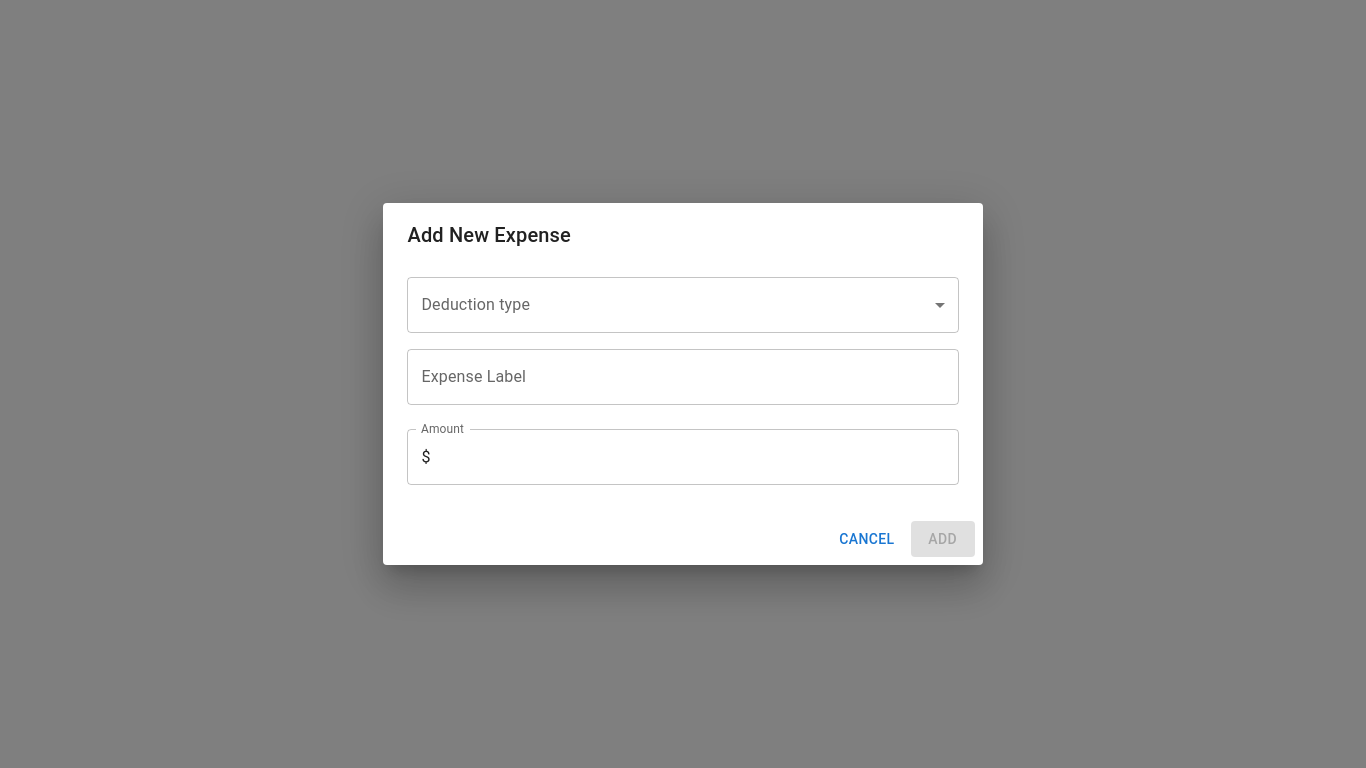
Test: AddExpense › disables the Add button when required fields are empty
This screenshot has width=1366, height=768.
Expected: the button "Add" is disabled, [911,521,975,557]
# Fill in the required fields
Type "Test Expense" into the field labelled "Expense Label" at {"x": 683, "y": 377}, box [407,349,959,405]
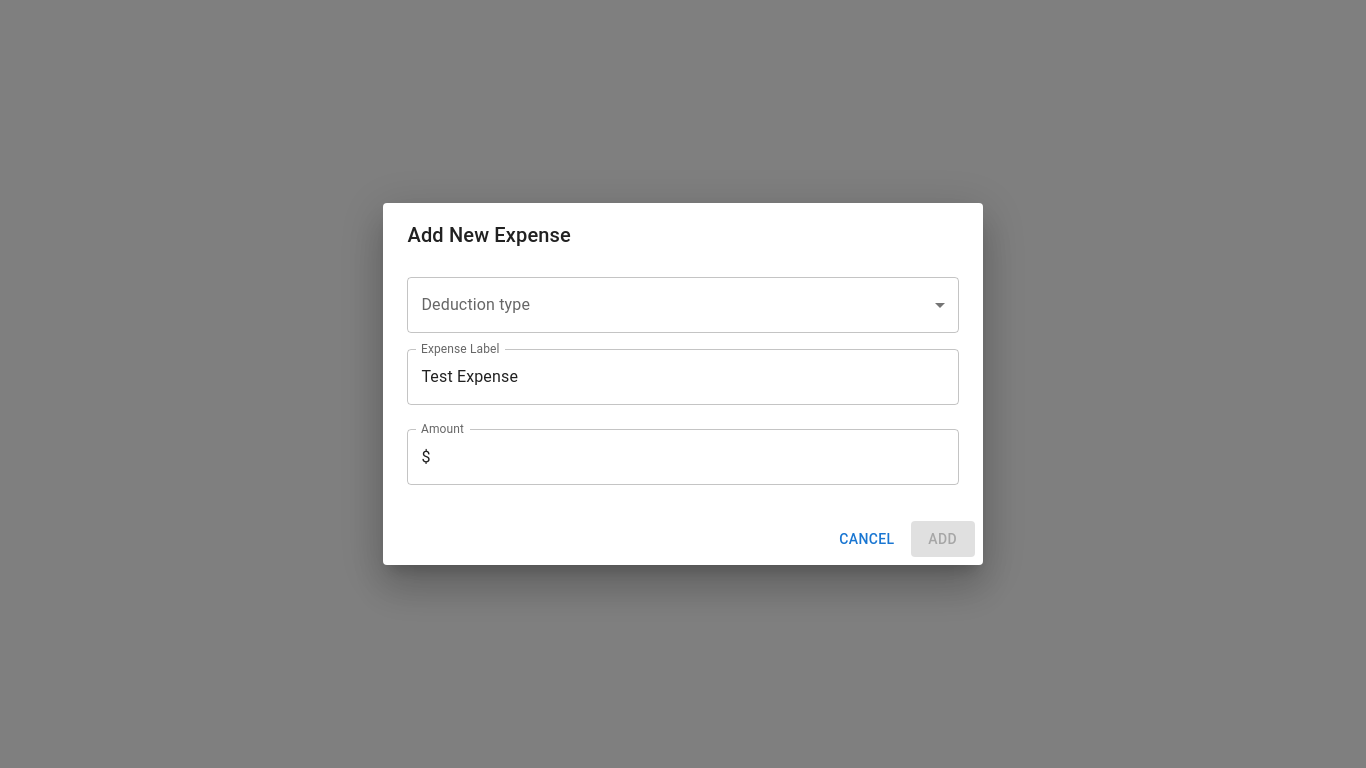
Type "100" into the number field labelled "Amount" at {"x": 695, "y": 457}, box [431,429,959,485]
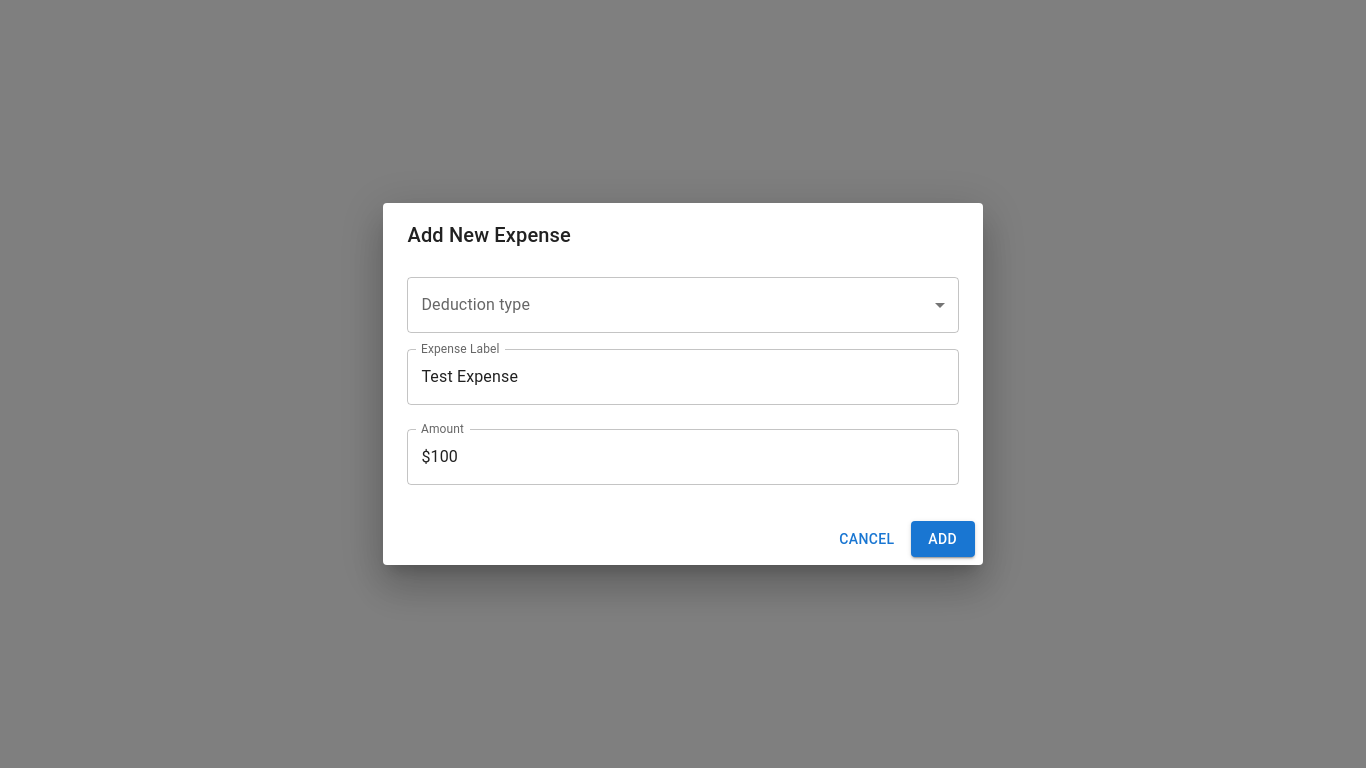
Now the button "Add" is enabled, box [911,521,975,557]
